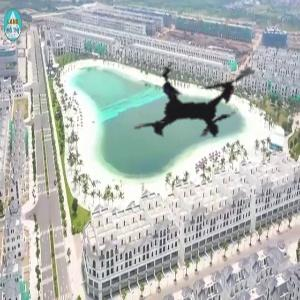drone: (98, 8, 293, 203)
